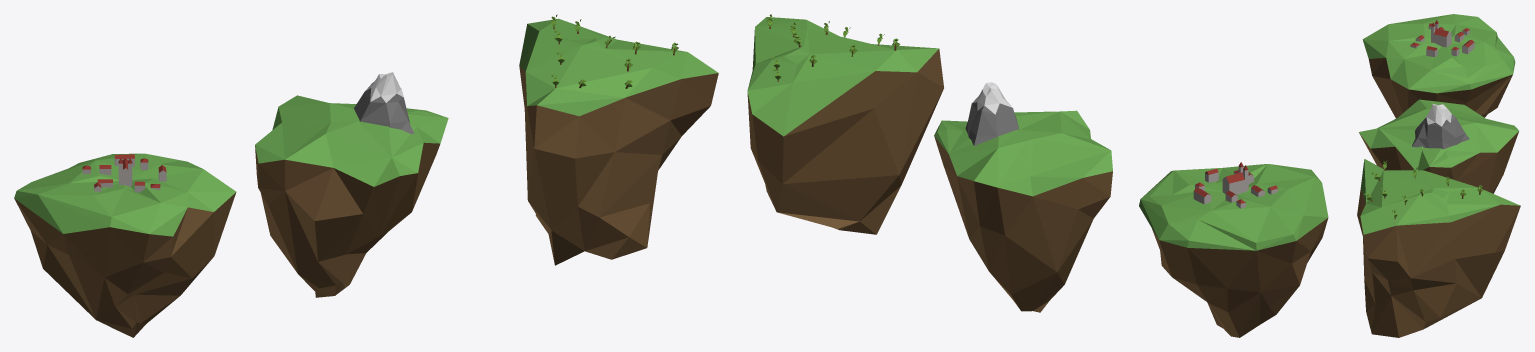
Rendered from FarIslands_v001.fbx.
The picture shows the model from 3 angles, left to right: view 1: azimuth 30°, elevation 25°; view 2: azimuth 150°, elevation 25°; view 3: azimuth 270°, elevation 25°; orthographic projection. The views are drawn at different scales.
Parts seen in each view (by area): view 1: geo_FarIslandC, geo_FarIslandA, geo_FarIslandB; view 2: geo_FarIslandC, geo_FarIslandB, geo_FarIslandA; view 3: geo_FarIslandC, geo_FarIslandA, geo_FarIslandB.
Boxes of the visible parts, left/top/right/bottom form: geo_FarIslandC: left=519, top=14, right=718, bottom=265; geo_FarIslandA: left=14, top=153, right=236, bottom=337; geo_FarIslandB: left=255, top=72, right=448, bottom=297; geo_FarIslandC: left=747, top=14, right=943, bottom=234; geo_FarIslandB: left=934, top=82, right=1112, bottom=312; geo_FarIslandA: left=1139, top=162, right=1328, bottom=337; geo_FarIslandC: left=1357, top=159, right=1520, bottom=337; geo_FarIslandA: left=1362, top=14, right=1515, bottom=118; geo_FarIslandB: left=1359, top=99, right=1518, bottom=193.
Size of the model in its own units: 795 by 261 by 235.
